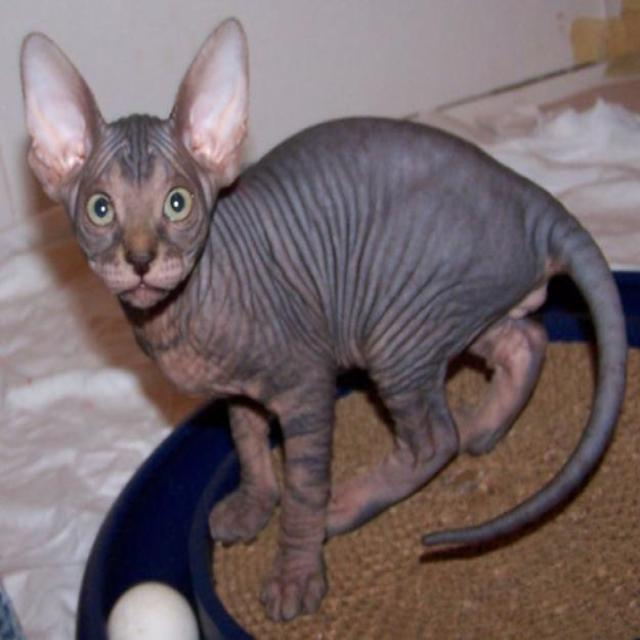Sphynx: (14, 13, 258, 313)
